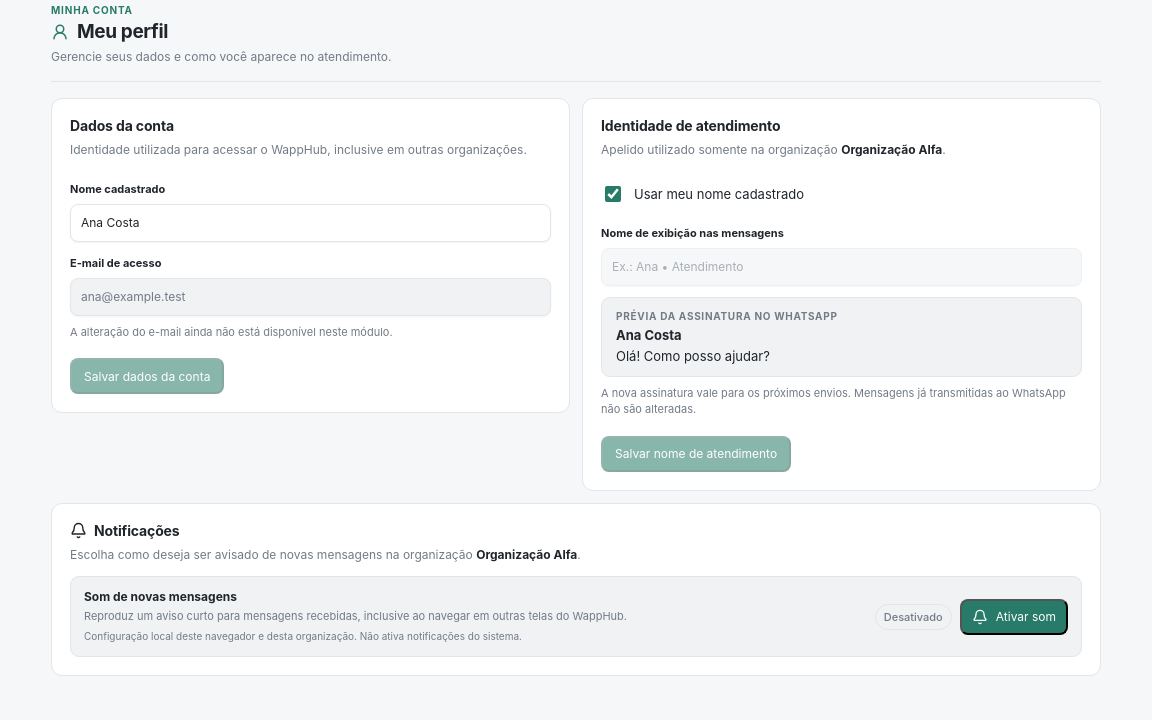
it: self-service identity settings › edits global user name, keeps login email read-only and refreshes session
Replace the text in the field labelled "Nome cadastrado" with "  Ana   Maria  " at (310, 223), box left=70, top=204, right=551, bottom=242
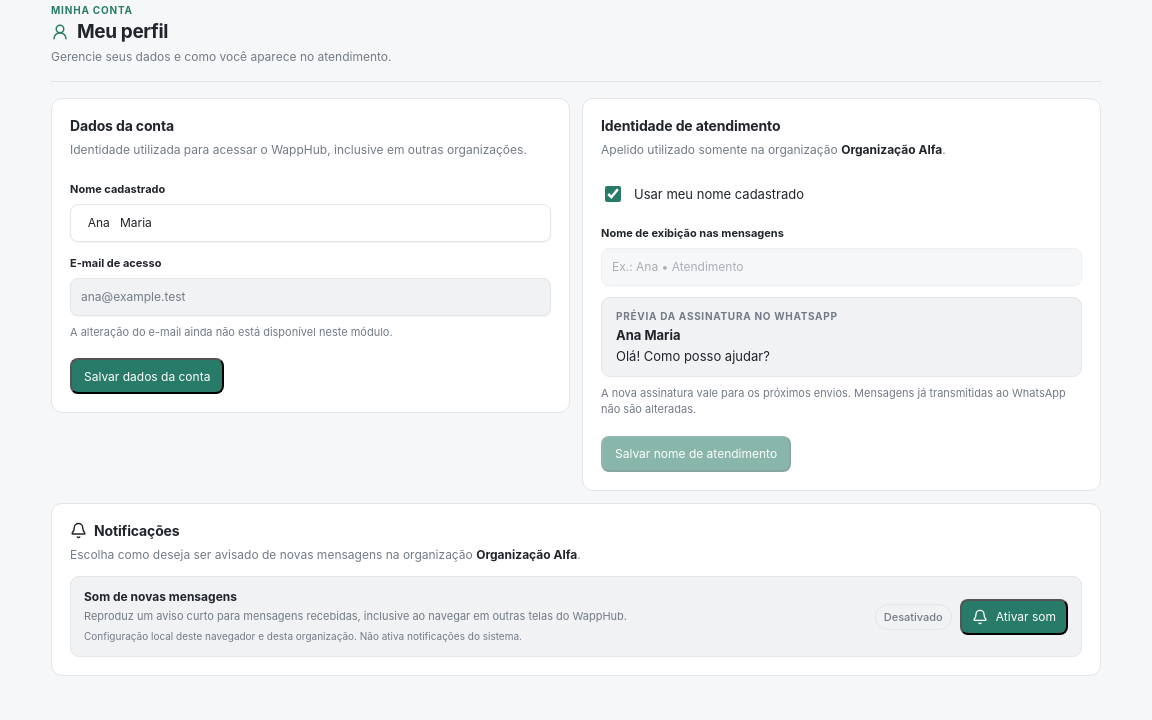
Click the button "Salvar dados da conta".
click(147, 376)  # box left=70, top=358, right=224, bottom=394
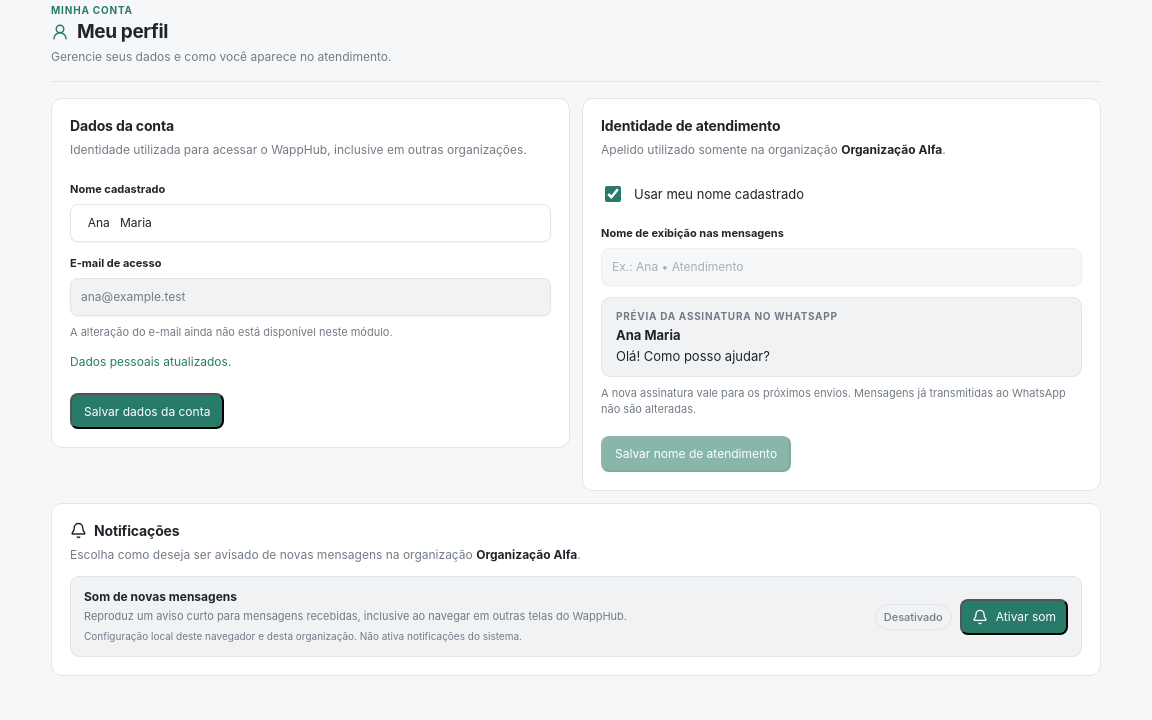
Check: the text "Dados pessoais atualizados." is shown, box left=70, top=354, right=231, bottom=369
